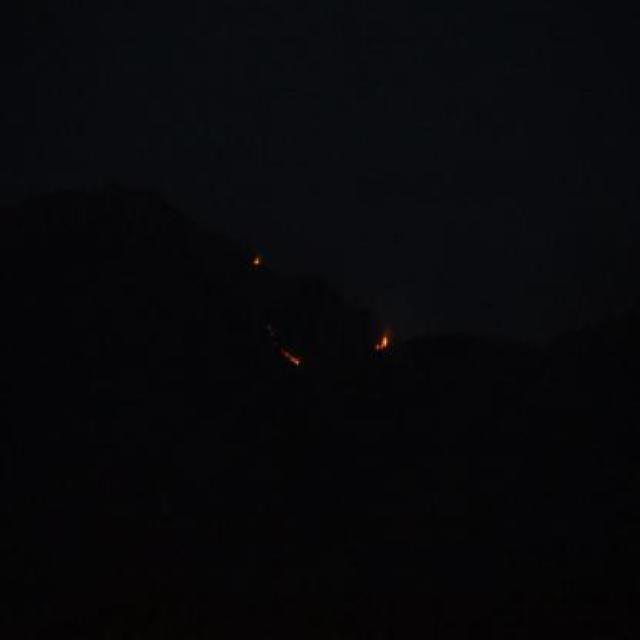Fire: (378, 334, 392, 351)
